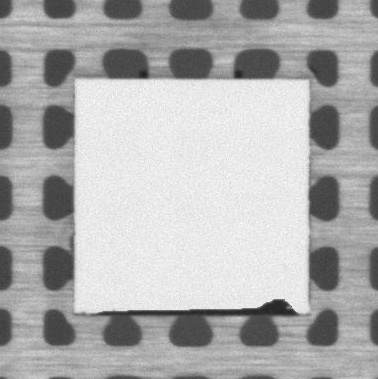DIE_BROKEN: (101, 293, 301, 317)
